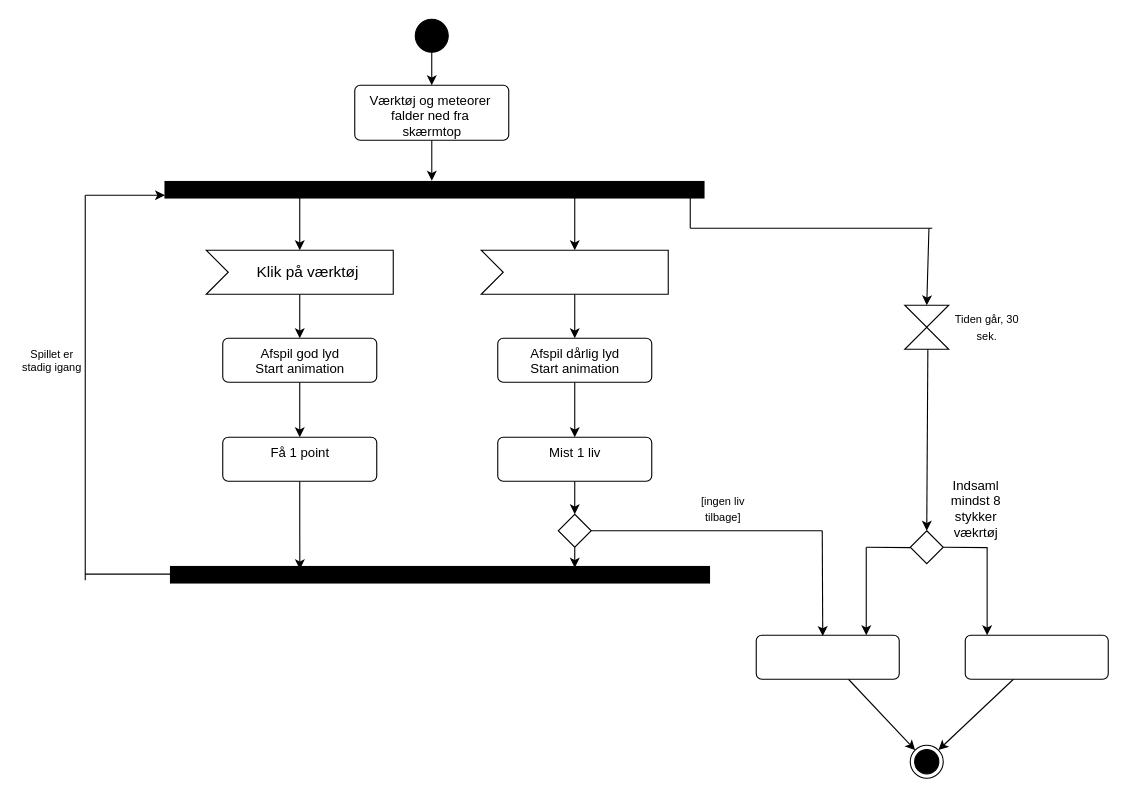
Some shapes in this 1128 by 798 pixel diagram are drawn without their labels. Here are the shapes that lost their labels. From the top down, the box of each, then its label:
(480, 249, 668, 294): Klik på meteor
(755, 634, 899, 679): GAME OVER
(964, 634, 1108, 679): DU VANDT
